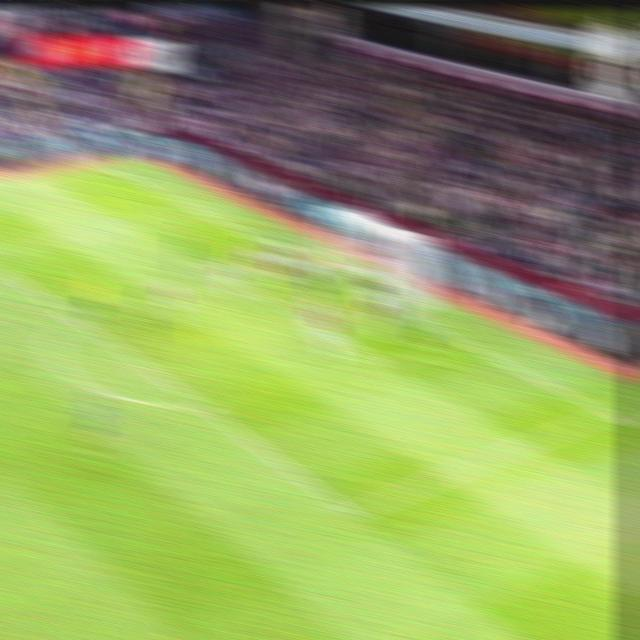bigarea_bottom_inner: (331, 493, 370, 529)
bigarea_bottom_outter: (592, 398, 623, 426)
bigarea_top_outter: (180, 198, 210, 221)
bottom_arc_area_intersection: (182, 389, 220, 422)
corner: (90, 156, 119, 174)
smallarea_bottom_inner: (369, 346, 403, 379)
smallarea_bottom_outter: (441, 326, 475, 353)
smallarea_top_inner: (199, 255, 230, 282)
top_arc_area_intersection: (53, 299, 88, 330)
